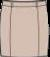Hemline: (0, 55, 48, 56)
Waistline: (2, 4, 46, 7), (2, 0, 45, 2)
